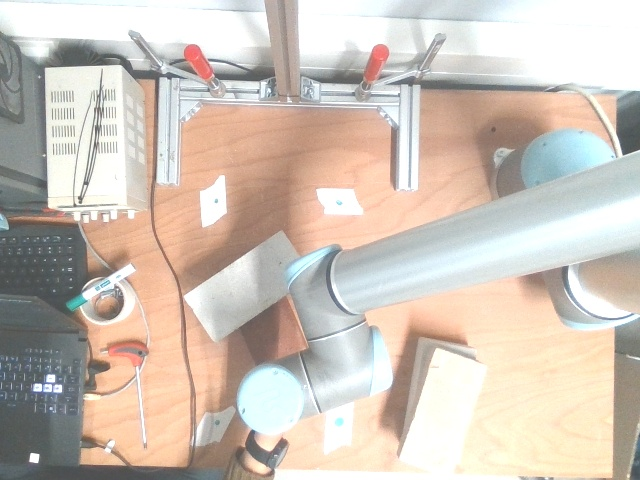brick: (397, 348, 486, 475)
